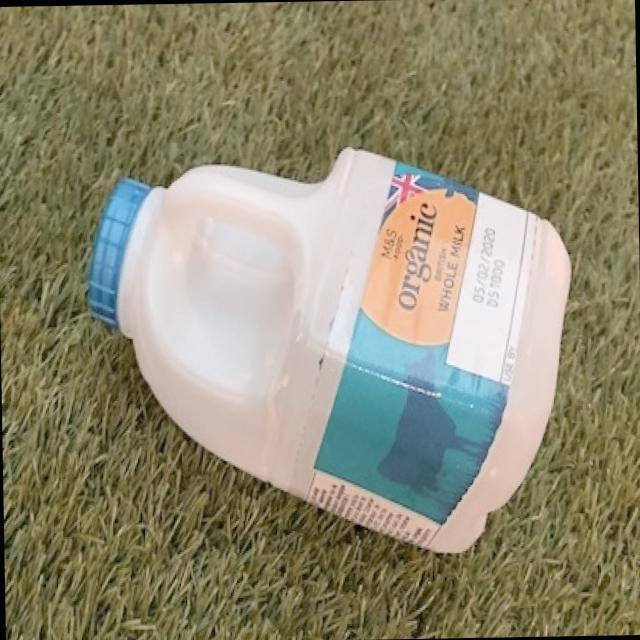HDPE Plastic: (84, 144, 576, 558)
